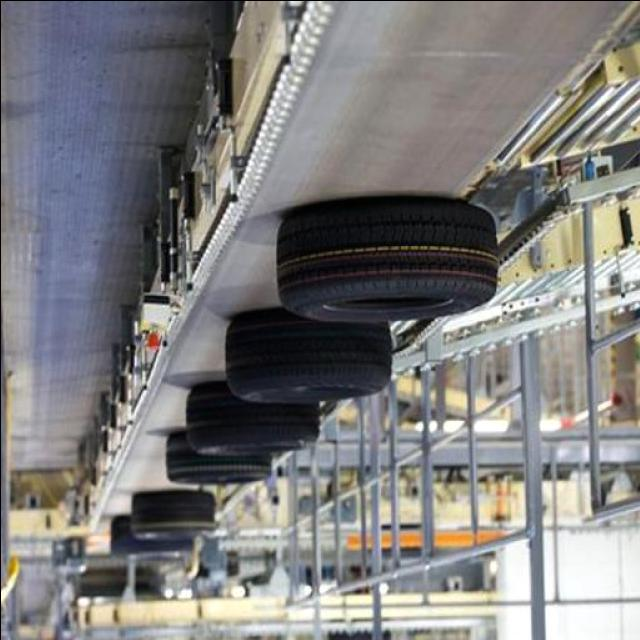conveyor: (77, 0, 640, 549)
